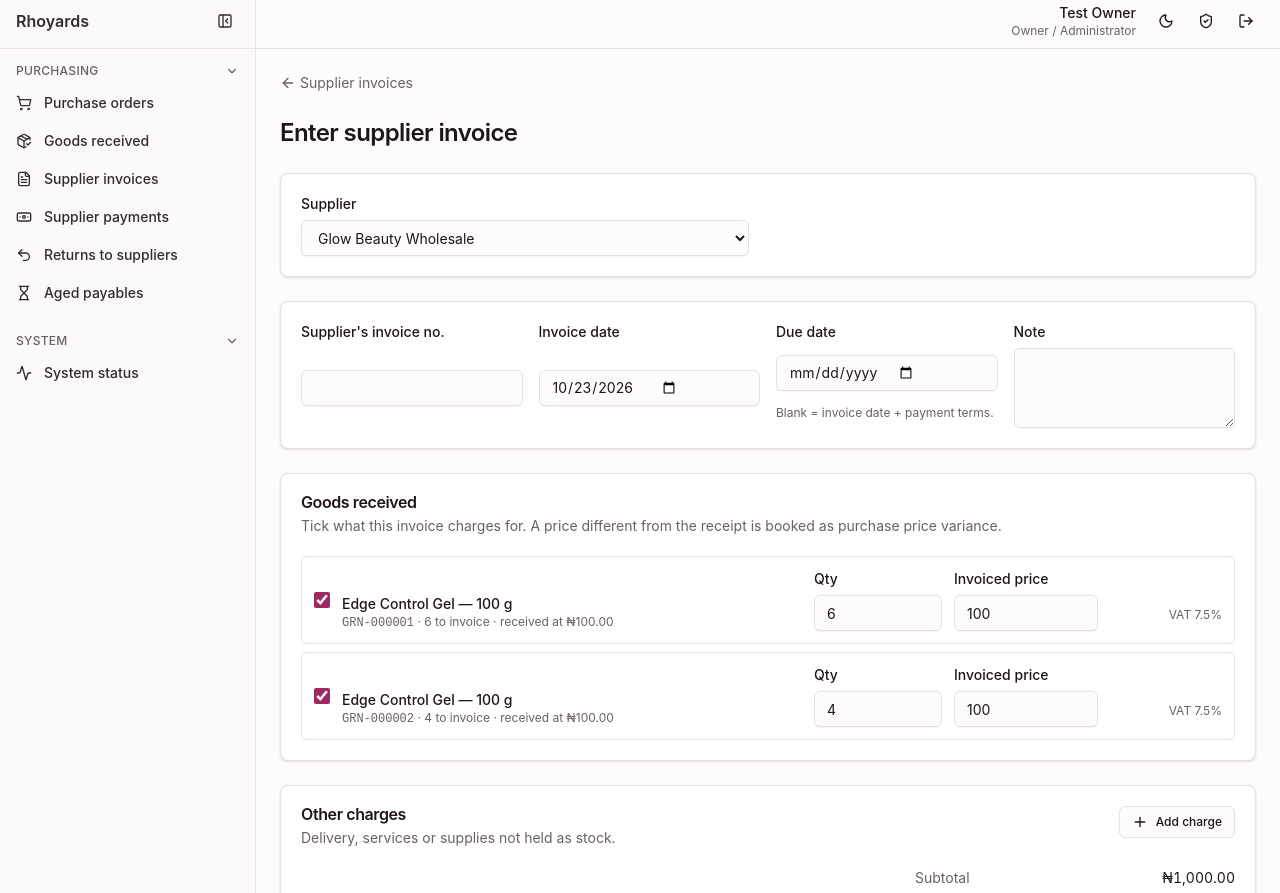
Test: supplier invoice form › lists received goods to match and totals only the ticked lines
This screenshot has width=1280, height=893.
Check: the text "GRN-000001 · 6 to invoice · received at ₦100.00" is shown, box [342,614,614,630]
Click the 2nd checkbox named "Include" at (322, 696), box [314,688,330,704]
(page scrolled)
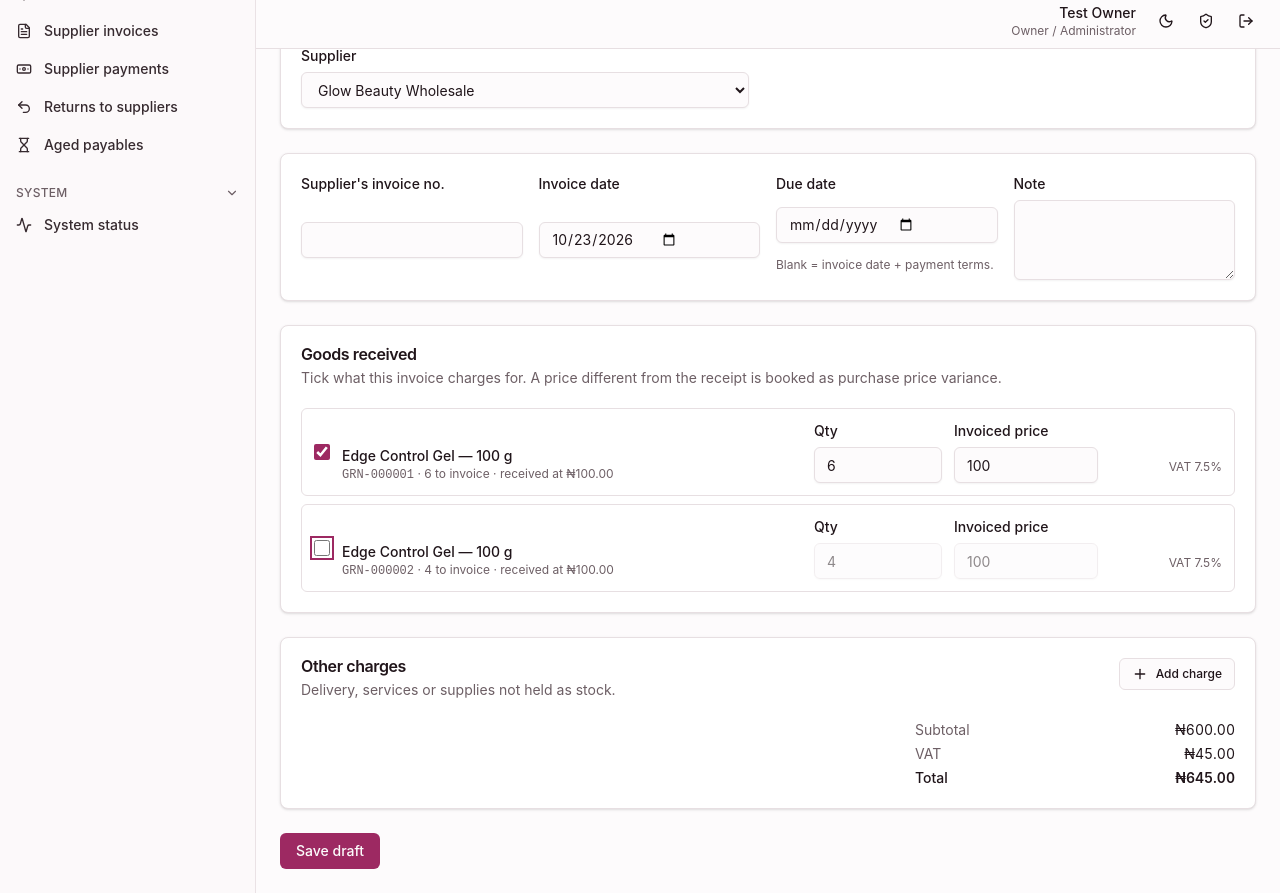
Check: the text "₦645.00" is shown, box [1175,769,1235,786]
